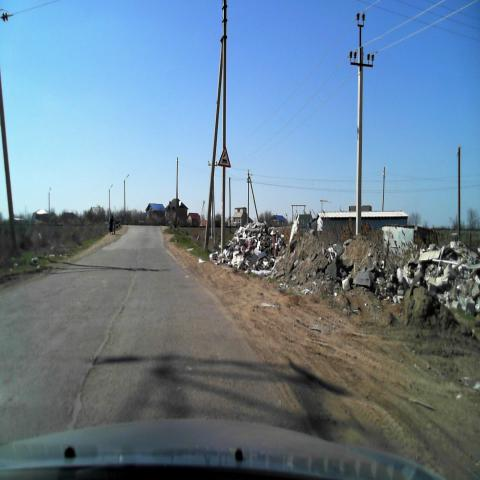1_2: (218, 148, 231, 168)
